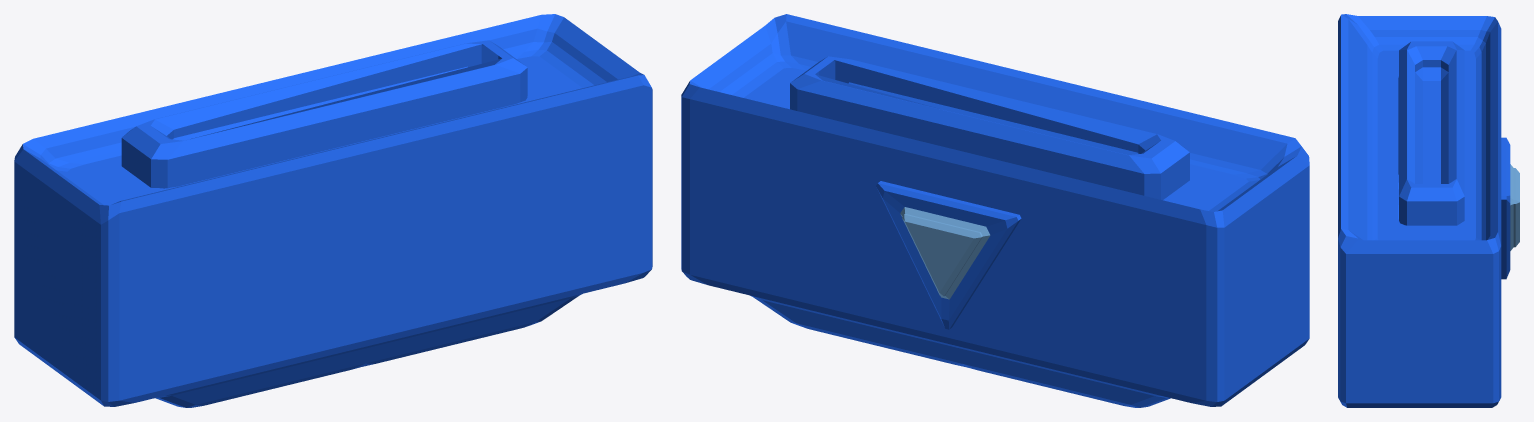
File: Pi Bottom.fbx
The picture shows the model from 3 angles, left to right: view 1: azimuth 30°, elevation 25°; view 2: azimuth 150°, elevation 25°; view 3: azimuth 270°, elevation 25°; orthographic projection. The views are drawn at different scales.
Parts seen in each view (by area): view 1: Pi Bottom; view 2: Pi Bottom; view 3: Pi Bottom.
Boxes of the visible parts, left/top/right/bottom form: Pi Bottom: left=14, top=14, right=652, bottom=407; Pi Bottom: left=681, top=14, right=1309, bottom=407; Pi Bottom: left=1338, top=14, right=1519, bottom=407.
Size of the model in its own units: 323 by 140 by 108.
